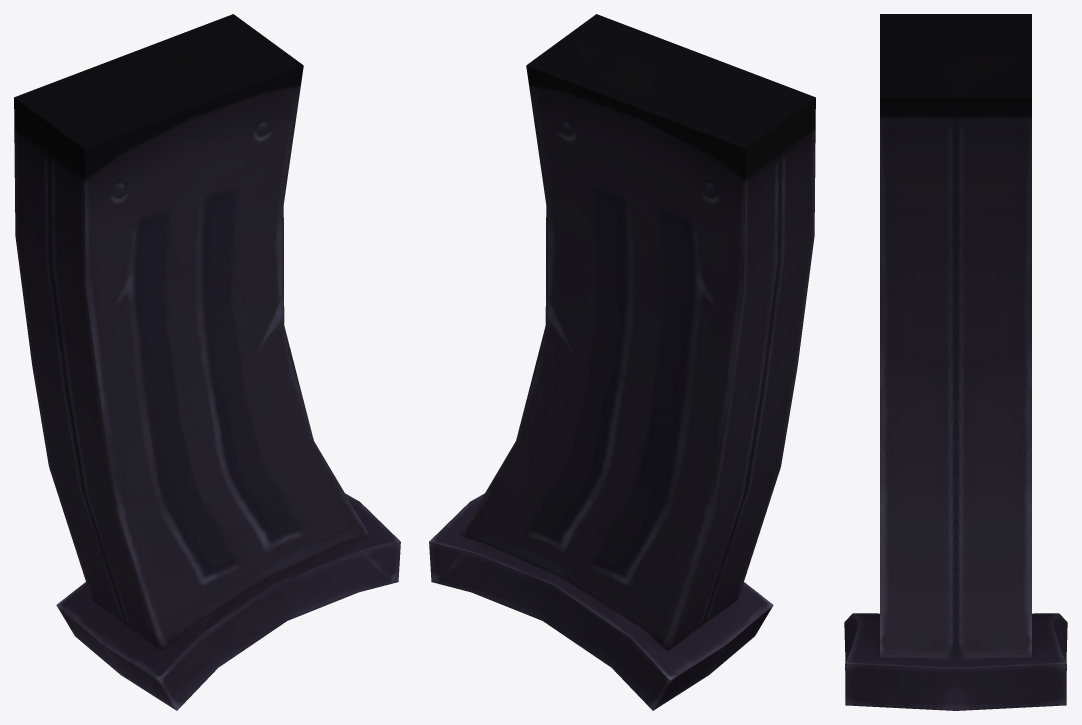
The model's file is Assault_Rifle_Magazine.fbx.
3 renders of one model, left to right at view 1: azimuth 30°, elevation 25°; view 2: azimuth 150°, elevation 25°; view 3: azimuth 270°, elevation 25°, orthographic. The views are drawn at different scales.
Visible parts, largest first — view 1: Assault_Rifle.001; view 2: Assault_Rifle.001; view 3: Assault_Rifle.001.
Boxes of the visible parts, x1,y1,x2,y2 form: Assault_Rifle.001: (14, 14, 400, 710); Assault_Rifle.001: (429, 14, 815, 710); Assault_Rifle.001: (844, 14, 1067, 710).
Bounding box in the file's own units: 39.79 × 73.31 × 22.92.
